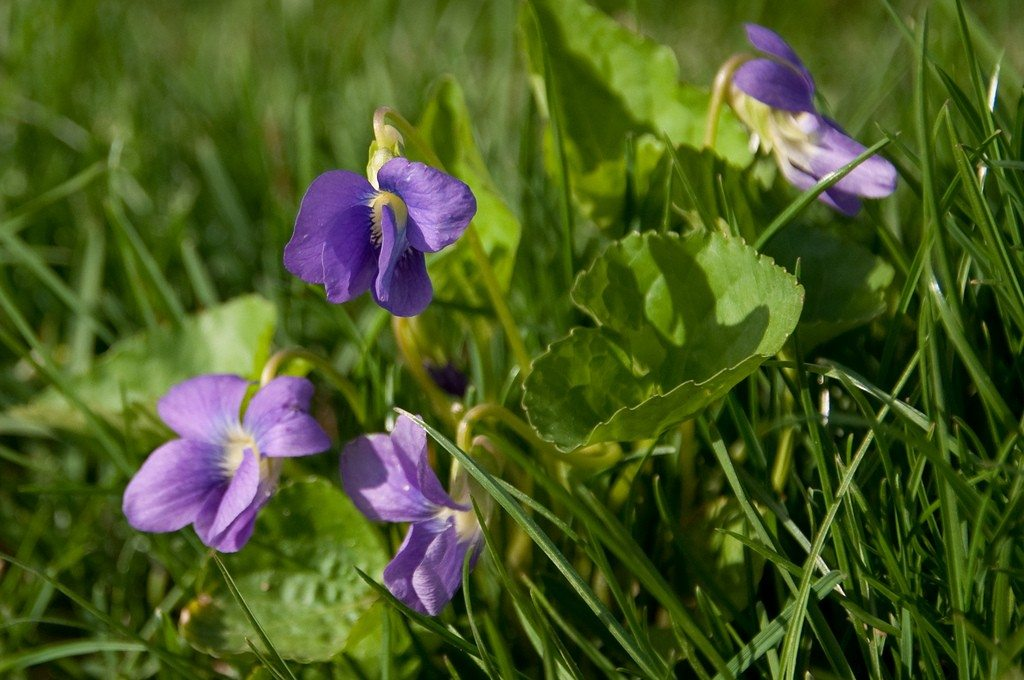violet: (123, 357, 337, 586), (725, 20, 915, 229), (277, 152, 481, 313), (331, 416, 496, 610)
